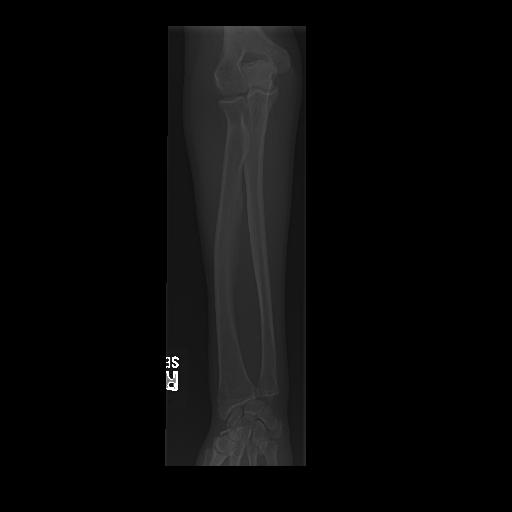forearm fracture: (206, 378, 264, 440)
